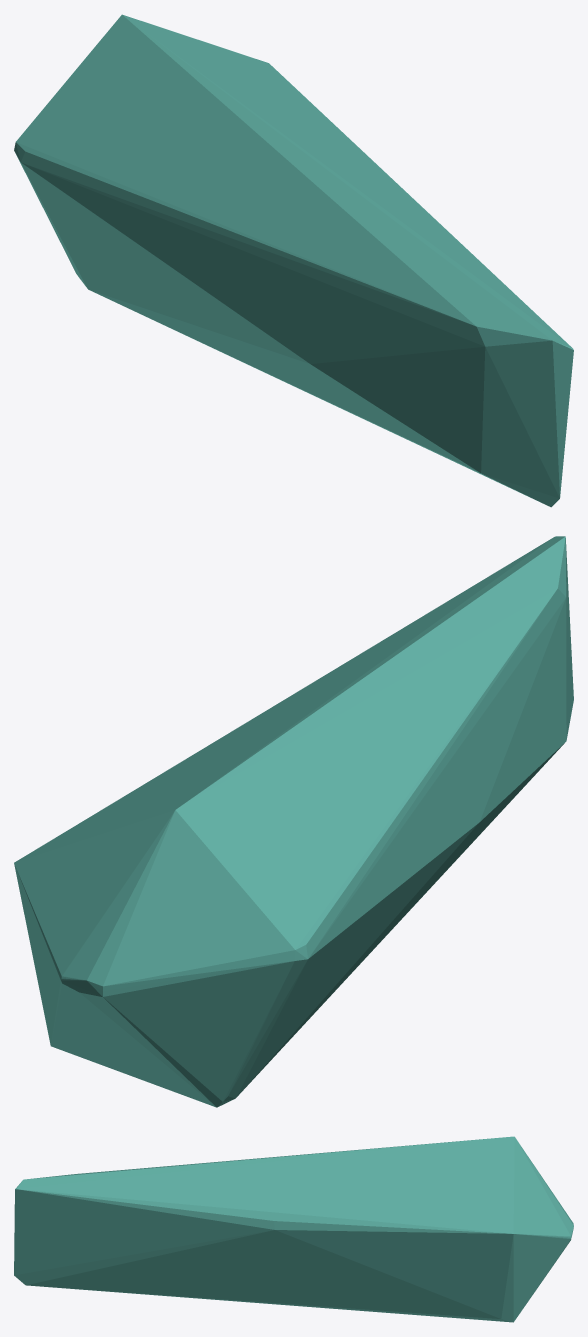
Rendered from monitor_patient_a01.glb.
3 views of the same model, one above another, from view 1: azimuth 30°, elevation 25°; view 2: azimuth 150°, elevation 25°; view 3: azimuth 270°, elevation 25° (orthographic). The views are drawn at different scales.
Visible parts, largest first — view 1: geometry_0; view 2: geometry_0; view 3: geometry_0.
Boxes of the visible parts, <box> form: geometry_0: <box>14,14,573,507</box>; geometry_0: <box>14,536,573,1107</box>; geometry_0: <box>14,1136,573,1322</box>.
Bounding box in the file's own units: 0.157 × 0.152 × 0.4726.
